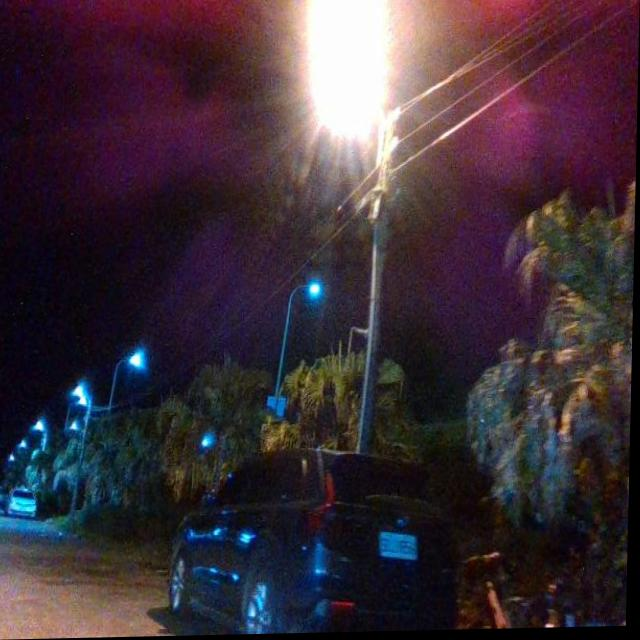pollute: (460, 556, 629, 631)
